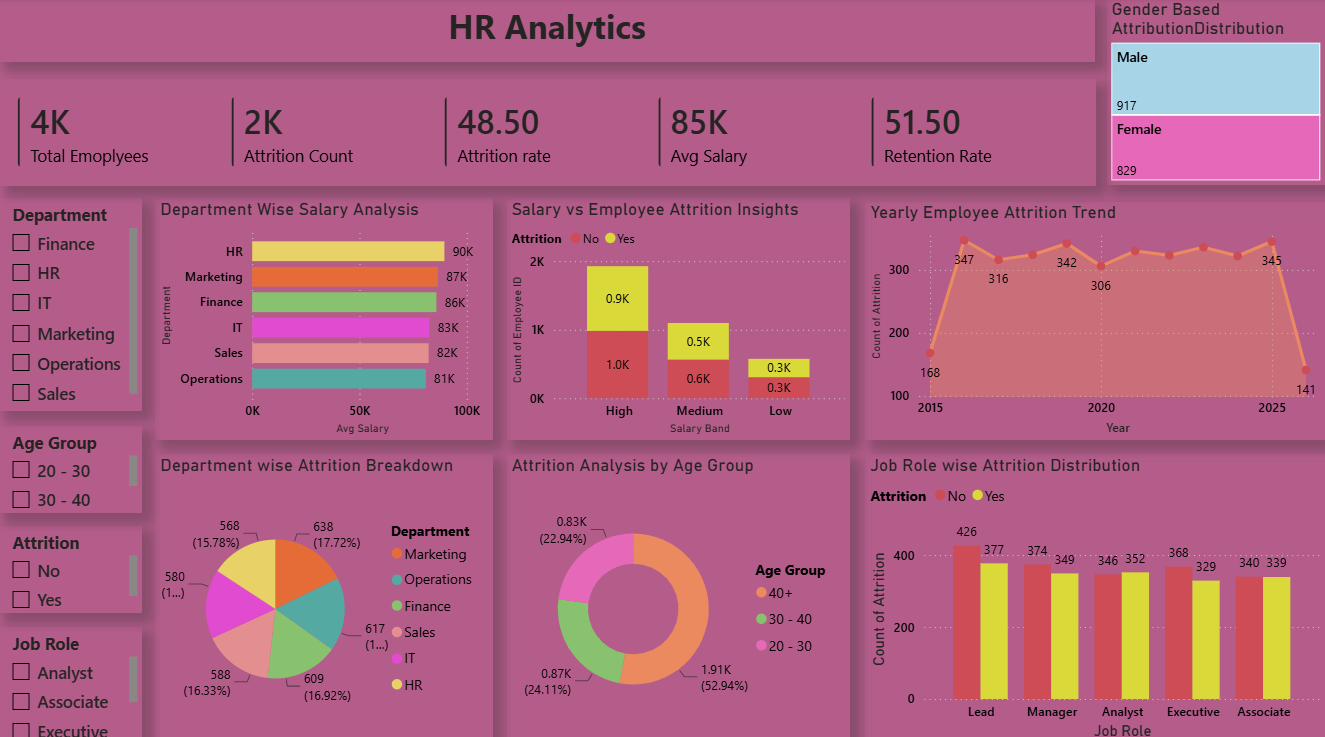

The page's visual inventory and layout, read from the dashboard file:
{"tool":"powerbi","page":{"name":"Page 1","canvas":[1280,720],"ordinal":0},"visuals":[{"type":"pieChart","title":"Department wise Attrition Breakdown","fields":{"Category":["HR Analytics Dataset CVS.Department"],"Y":["CountNonNull(HR Analytics Dataset CVS.Attrition)"]},"box":[150.9,440.1,325.2,279.9],"z":0},{"type":"clusteredColumnChart","title":"Job Role wise Attrition Distribution","fields":{"Category":["HR Analytics Dataset CVS.Job Role"],"Y":["CountNonNull(HR Analytics Dataset CVS.Attrition)"],"Series":["HR Analytics Dataset CVS.Attrition"]},"box":[835.7,440.5,444.6,279.9],"z":1000},{"type":"columnChart","title":"Salary vs Employee Attrition Insights","fields":{"Category":["HR Analytics Dataset CVS.Salary Band"],"Series":["HR Analytics Dataset CVS.Attrition"],"Y":["CountNonNull(HR Analytics Dataset CVS.Employee ID)"]},"box":[489.9,193.5,332.1,233.3],"z":2000},{"type":"barChart","title":"Department Wise Salary Analysis","fields":{"Category":["HR Analytics Dataset CVS.Department"],"Y":["HR Analytics Dataset CVS.Avg Salary"]},"box":[150.9,193.5,325.2,233.3],"z":3000},{"type":"donutChart","title":"Attrition Analysis  by Age Group","fields":{"Category":["HR Analytics Dataset CVS.Age Group"],"Y":["CountNonNull(HR Analytics Dataset CVS.Attrition)"]},"box":[489.9,440.5,332.1,279.9],"z":4000},{"type":"areaChart","title":"Yearly Employee Attrition Trend","fields":{"Category":["HR Analytics Dataset CVS.Joining Date.Variation.Date Hierarchy.Year","HR Analytics Dataset CVS.Joining Date.Variation.Date Hierarchy.Month"],"Y":["CountNonNull(HR Analytics Dataset CVS.Attrition)"]},"box":[835.7,196.2,444.6,230.5],"z":5000},{"type":"cardVisual","fields":{"Data":["HR Analytics Dataset CVS.Total Emoplyees","HR Analytics Dataset CVS.Attrition Count","HR Analytics Dataset CVS.Attrition rate","HR Analytics Dataset CVS.Avg Salary","HR Analytics Dataset CVS.Retention Rate"]},"box":[1.4,78.2,1058,102.9],"z":6000},{"type":"slicer","fields":{"Values":["HR Analytics Dataset CVS.Department"]},"box":[0,193.5,138.6,205.8],"z":7000},{"type":"slicer","fields":{"Values":["HR Analytics Dataset CVS.Job Role"]},"box":[0,606.5,138.6,113.9],"z":8000},{"type":"slicer","fields":{"Values":["HR Analytics Dataset CVS.Age Group"]},"box":[0,413,138.6,85.1],"z":9000},{"type":"slicer","fields":{"Values":["HR Analytics Dataset CVS.Attrition"]},"box":[0,509.1,138.6,85.1],"z":10000},{"type":"treemap","title":"Gender Based AttributionDistribution","fields":{"Group":["HR Analytics Dataset CVS.Gender"],"Values":["HR Analytics Dataset CVS.Attrition Count"]},"box":[1069,0,211.3,181.1],"z":11000},{"type":"textbox","box":[0,0,1058,61.7],"z":12000}]}

Visuals, with their boxes in screenshot pixels (x1, y1, x2, y2), scaled from the page's 1280x720 canvas onto the 1325x737 screenshot:
"Department wise Attrition Breakdown" pieChart: {"left": 156, "top": 450, "right": 493, "bottom": 736}
"Job Role wise Attrition Distribution" clusteredColumnChart: {"left": 865, "top": 451, "right": 1324, "bottom": 736}
"Salary vs Employee Attrition Insights" columnChart: {"left": 507, "top": 198, "right": 851, "bottom": 437}
"Department Wise Salary Analysis" barChart: {"left": 156, "top": 198, "right": 493, "bottom": 437}
"Attrition Analysis  by Age Group" donutChart: {"left": 507, "top": 451, "right": 851, "bottom": 736}
"Yearly Employee Attrition Trend" areaChart: {"left": 865, "top": 201, "right": 1324, "bottom": 437}
cardVisual - HR Analytics Dataset CVS.Total Emoplyees x HR Analytics Dataset CVS.Attrition Count: {"left": 1, "top": 80, "right": 1097, "bottom": 185}
slicer - HR Analytics Dataset CVS.Department: {"left": 0, "top": 198, "right": 143, "bottom": 409}
slicer - HR Analytics Dataset CVS.Job Role: {"left": 0, "top": 621, "right": 143, "bottom": 736}
slicer - HR Analytics Dataset CVS.Age Group: {"left": 0, "top": 423, "right": 143, "bottom": 510}
slicer - HR Analytics Dataset CVS.Attrition: {"left": 0, "top": 521, "right": 143, "bottom": 608}
"Gender Based AttributionDistribution" treemap: {"left": 1107, "top": 0, "right": 1324, "bottom": 185}
textbox: {"left": 0, "top": 0, "right": 1095, "bottom": 63}
